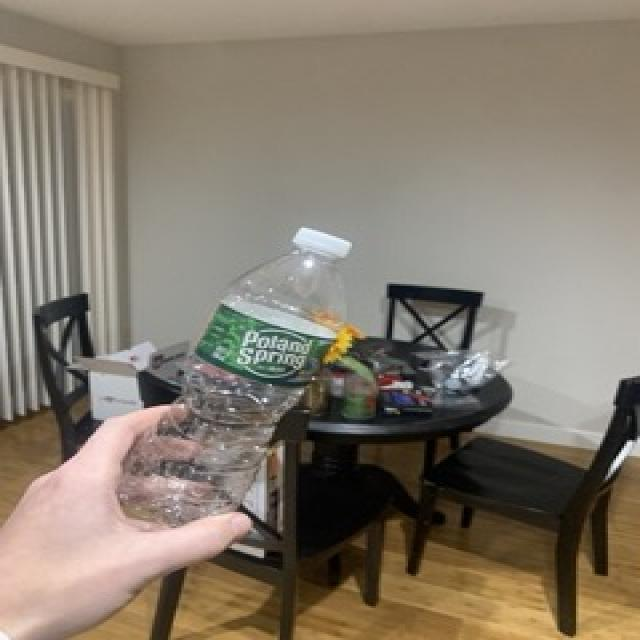water_bottle: (89, 219, 364, 552)
